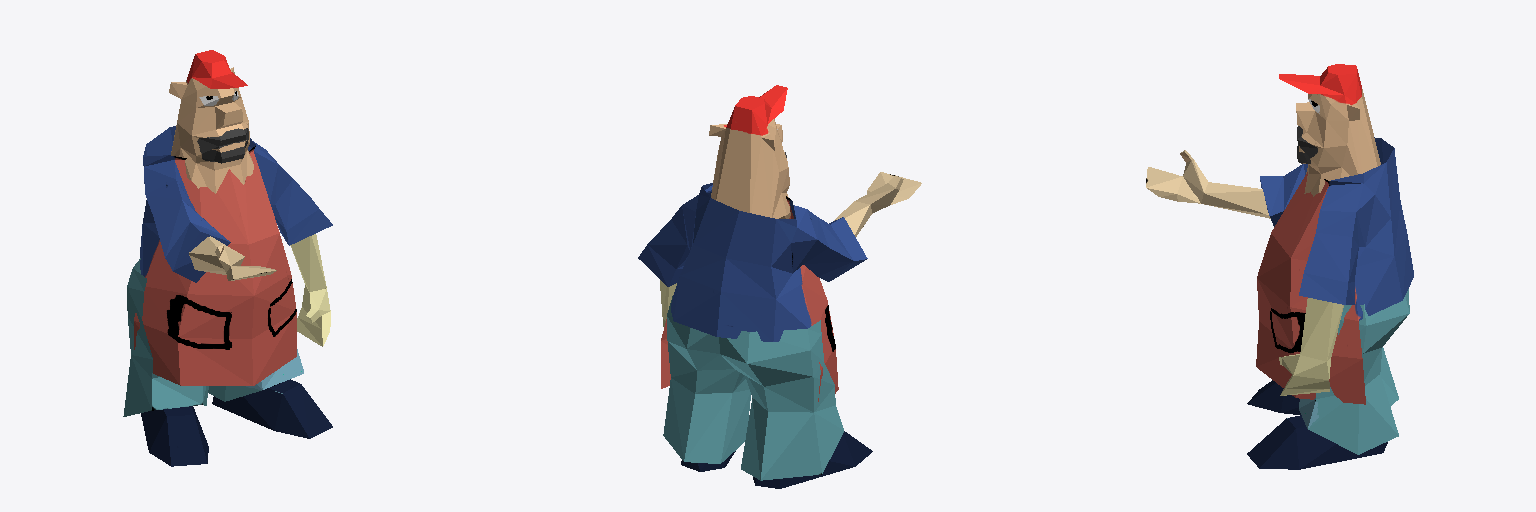
The picture shows the model from 3 angles: view 1: azimuth 30°, elevation 25°; view 2: azimuth 150°, elevation 25°; view 3: azimuth 270°, elevation 25°; orthographic projection.
Parts seen in each view (by area): view 1: Mesh01; view 2: Mesh01; view 3: Mesh01.
Boxes of the visible parts, x1,y1,x2,y2 form: Mesh01: [123, 50, 332, 466]; Mesh01: [638, 85, 921, 488]; Mesh01: [1146, 64, 1413, 469].
Size of the model in its own units: 7.53 by 13.3 by 9.01.
Materials: 1 (1 with a texture image).